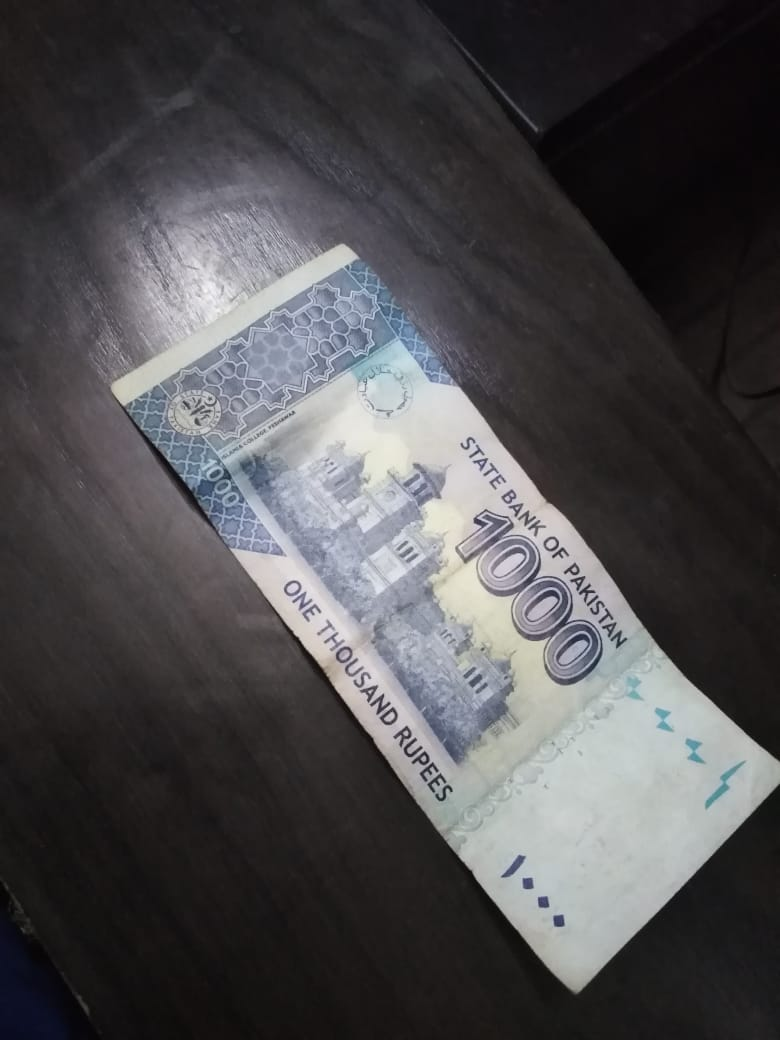1000 rupee: (82, 221, 779, 1013)
